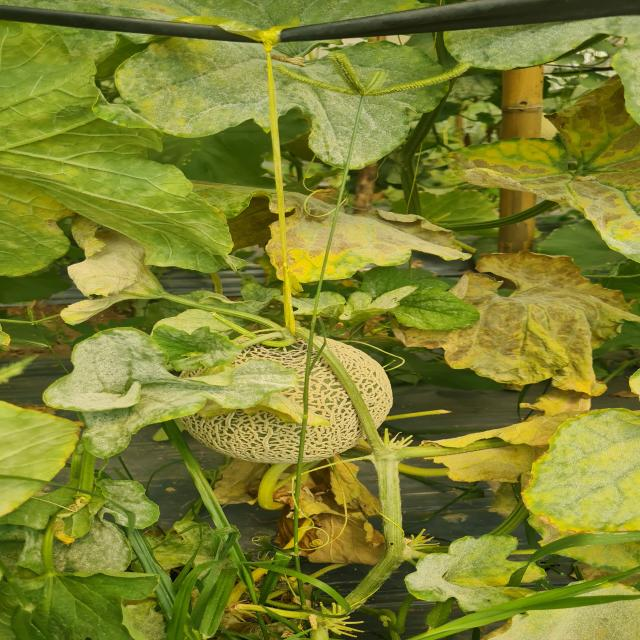melon: (180, 410, 302, 464), (302, 359, 364, 461), (327, 339, 393, 426), (236, 339, 307, 404)
